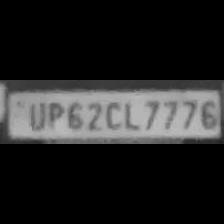2: (84, 97, 103, 130)
6: (62, 98, 84, 130), (196, 98, 218, 130)
7: (140, 97, 160, 131), (176, 96, 196, 130), (160, 97, 178, 131)
C: (102, 99, 120, 131)
L: (122, 97, 140, 130)
P: (45, 98, 63, 130)
U: (24, 98, 46, 130)
